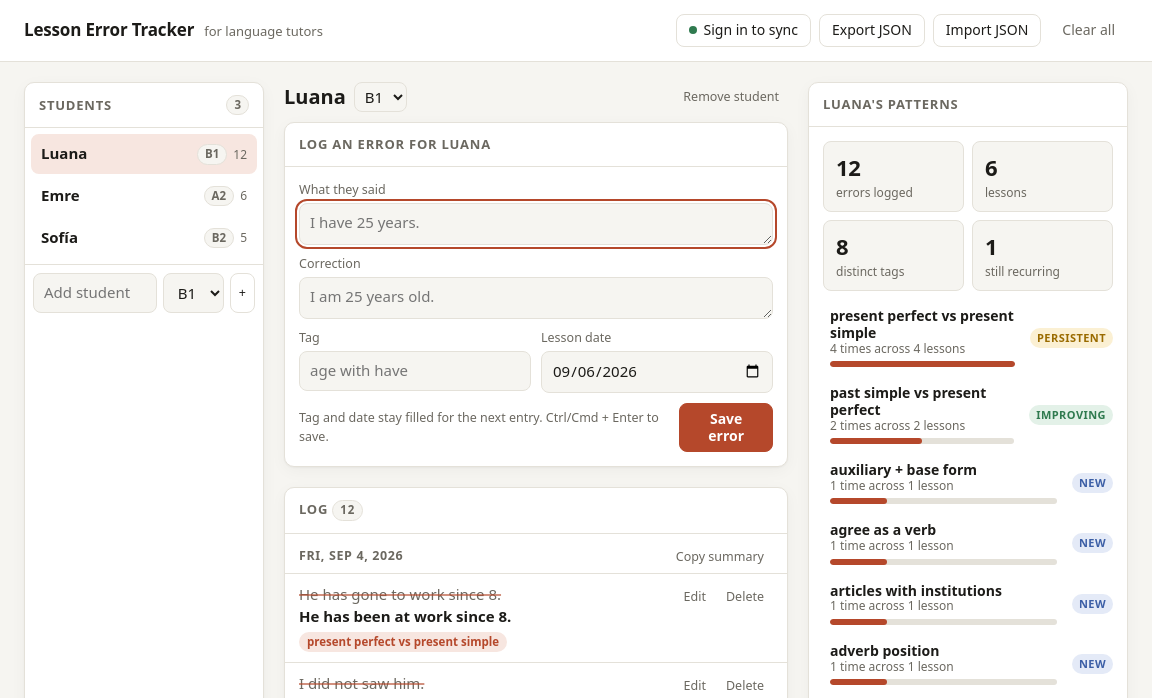
it: sync › creates an account, pushes the local data, and merges what the server returns
Click the button "Sign in to sync".
click(744, 30)  # box [676,14,811,47]
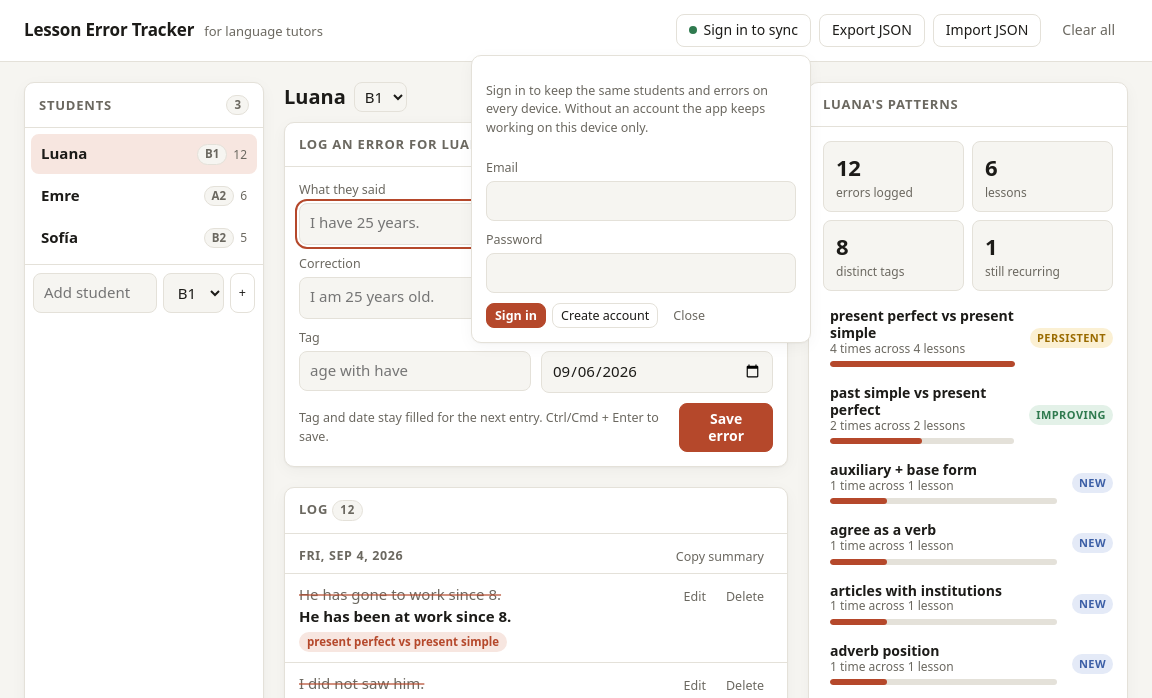
Type "tutor@example.com" into the field labelled "Email".
click(641, 201); type("tutor@example.com")  # box [486,181,796,221]
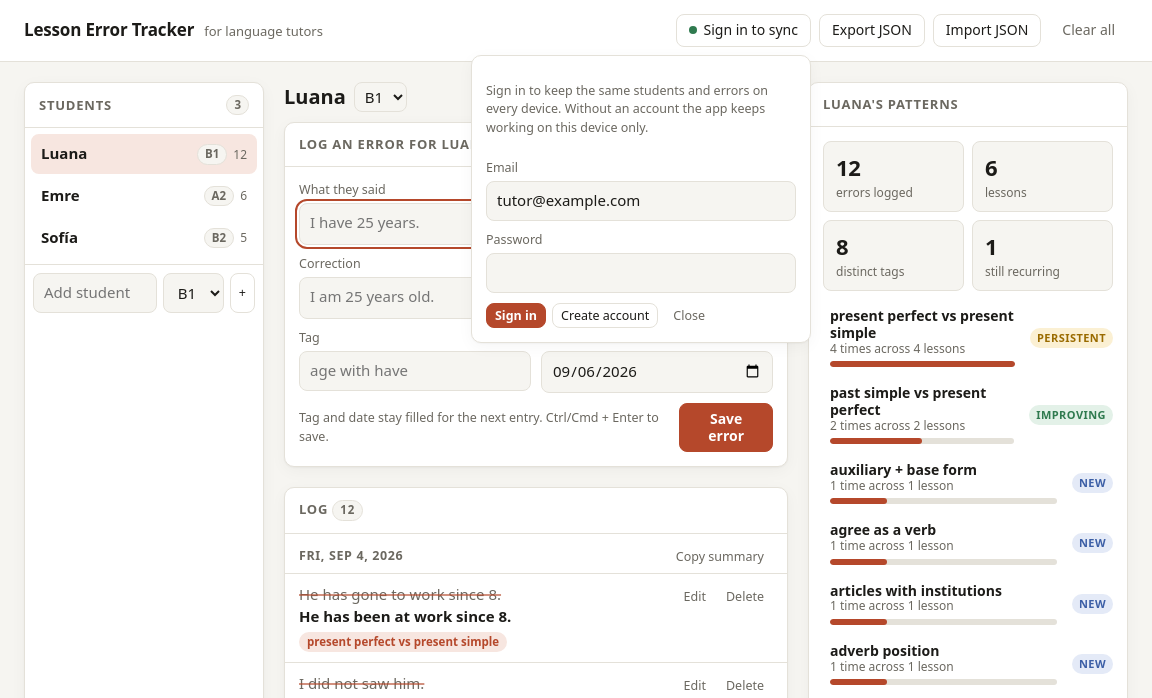
Type "right password" into the password field labelled "Password".
click(641, 273); type("right password")  # box [486,253,796,293]
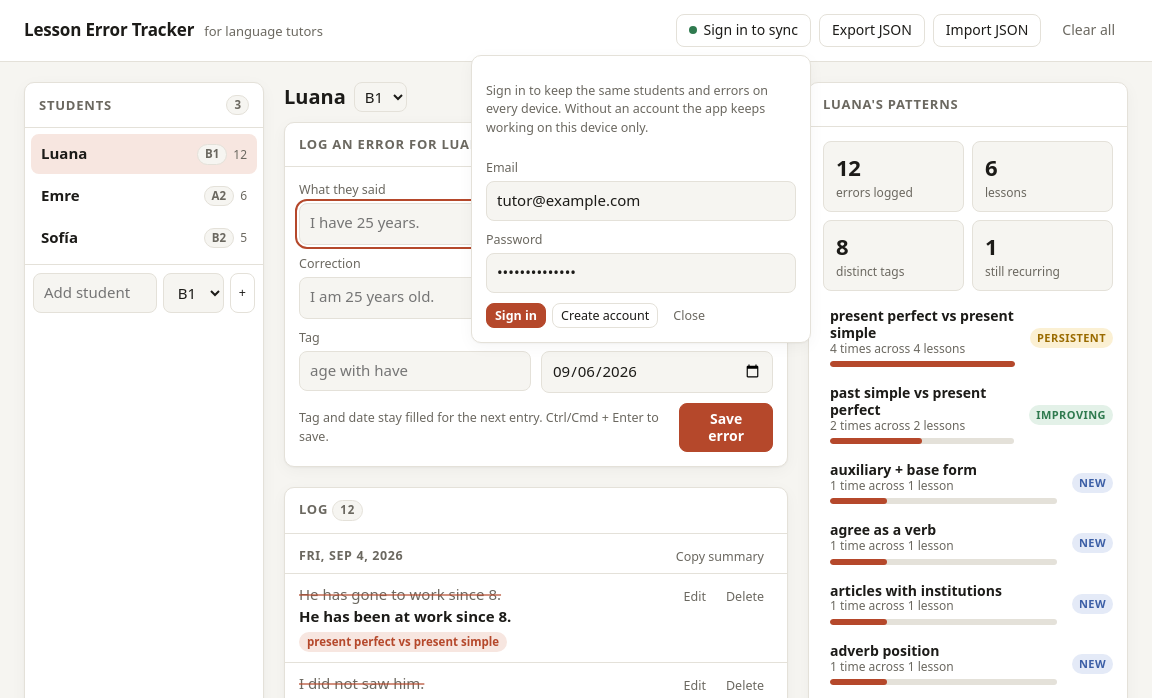
Click the button "Create account".
click(605, 315)  # box [552,303,658,328]
(page scrolled)
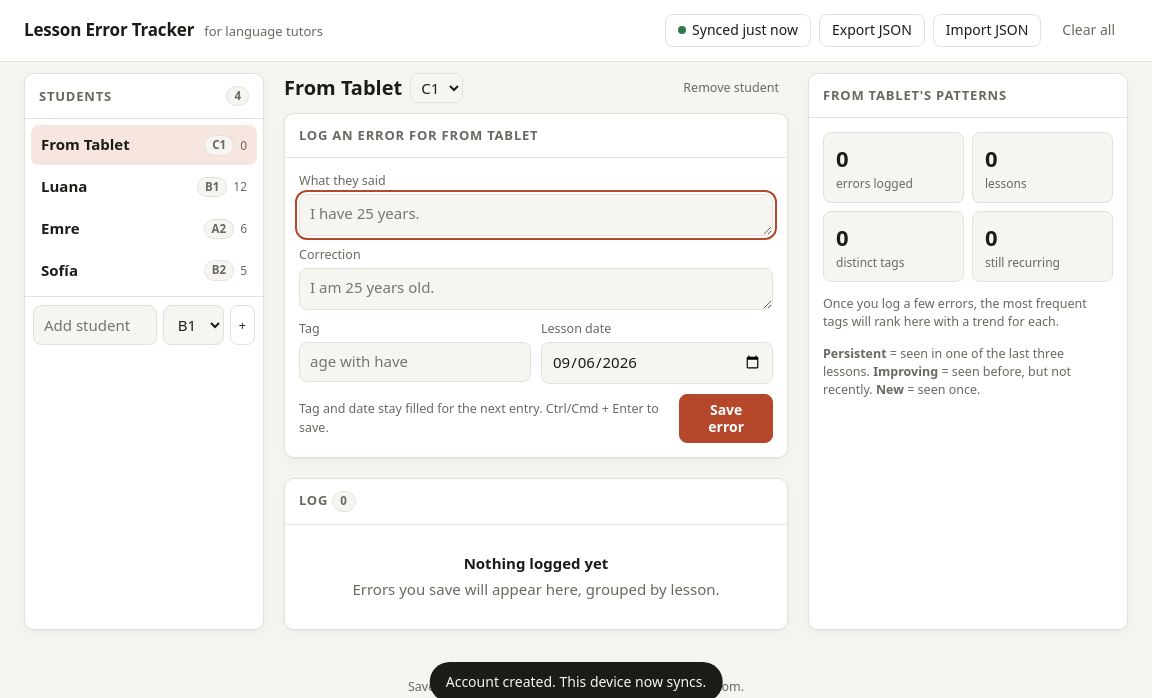
Expected: the button "From Tablet C1 0" is shown, [31,126,257,165]
Expected: the text "Saved in this browser and synced to tutor@example.com." is shown, [408,678,744,694]
